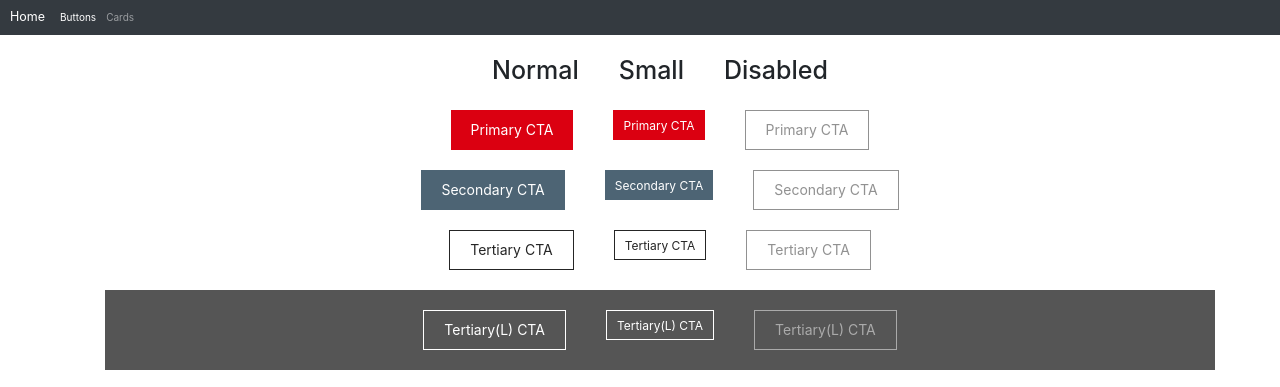
Test: Routing › route to HomePage
This screenshot has width=1280, height=387.
Click the link "Home".
click(28, 18)  # box [10, 5, 45, 30]
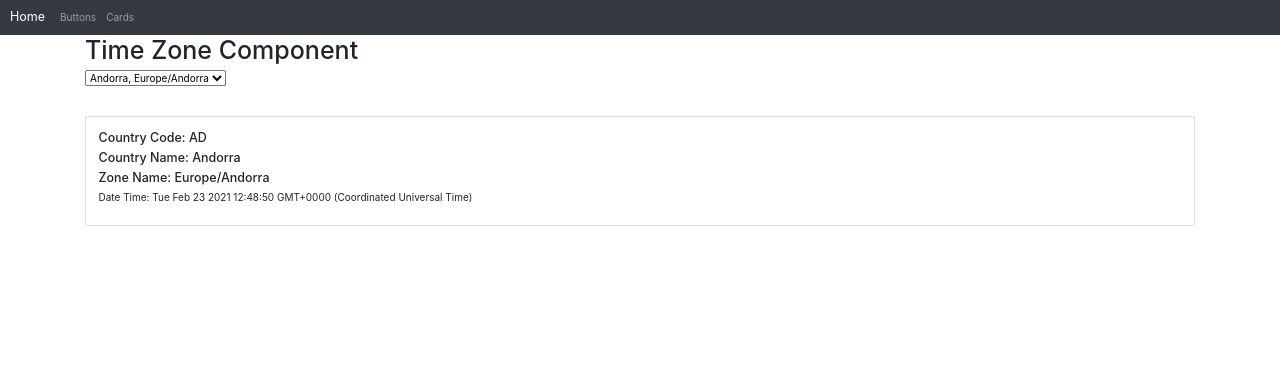
Now the heading "Time Zone Component" is shown, box [85, 35, 358, 65]
